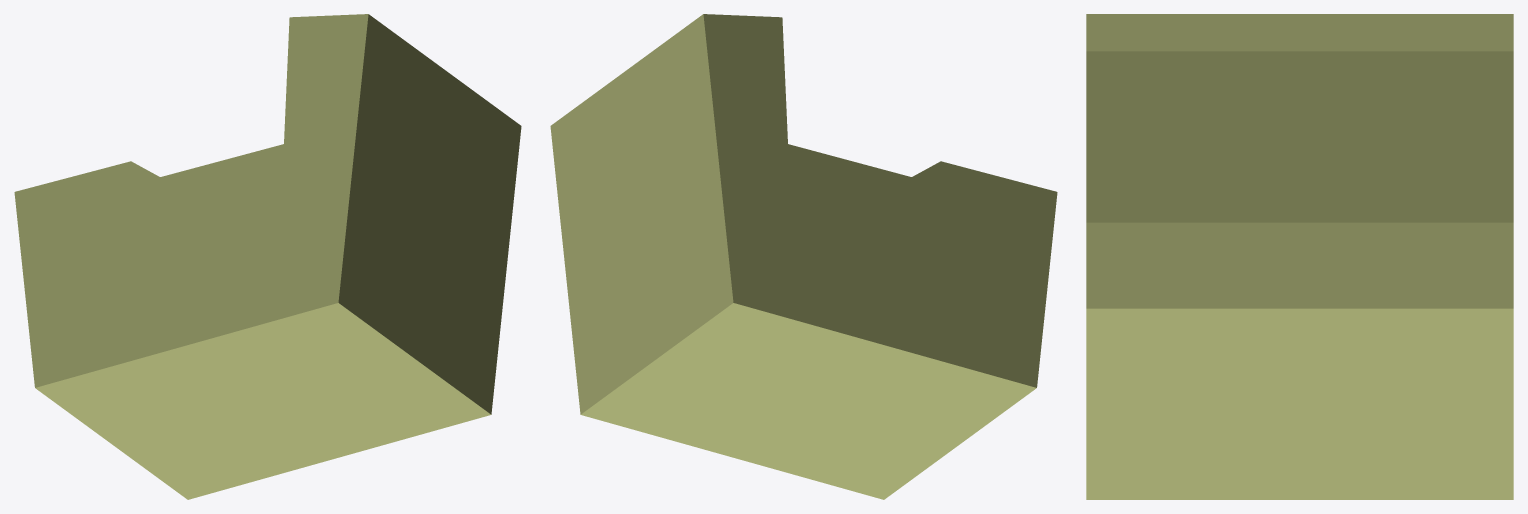
The picture shows the model from 3 angles, left to right: view 1: azimuth 30°, elevation 25°; view 2: azimuth 150°, elevation 25°; view 3: azimuth 270°, elevation 25°; orthographic projection. The views are drawn at different scales.
Parts seen in each view (by area): view 1: 0_1_0_0_1_3_2_2_3_1_0; view 2: 0_1_0_0_1_3_2_2_3_1_0; view 3: 0_1_0_0_1_3_2_2_3_1_0.
Boxes of the visible parts, x1=… form: 0_1_0_0_1_3_2_2_3_1_0: x1=14, y1=14, x2=521, y2=499; 0_1_0_0_1_3_2_2_3_1_0: x1=550, y1=14, x2=1057, y2=499; 0_1_0_0_1_3_2_2_3_1_0: x1=1086, y1=14, x2=1513, y2=499.
Bounding box in the file's own units: 8.02 × 6.68 × 6.
